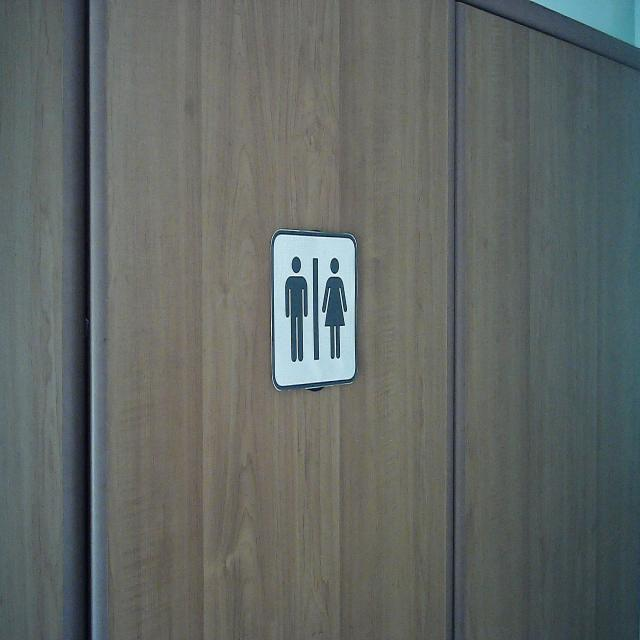restroom: (269, 225, 359, 396)
